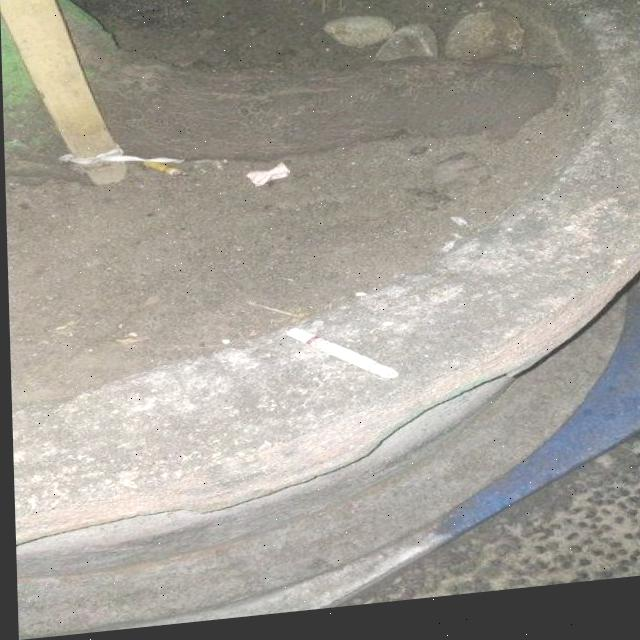cigarette: (286, 325, 394, 397)
